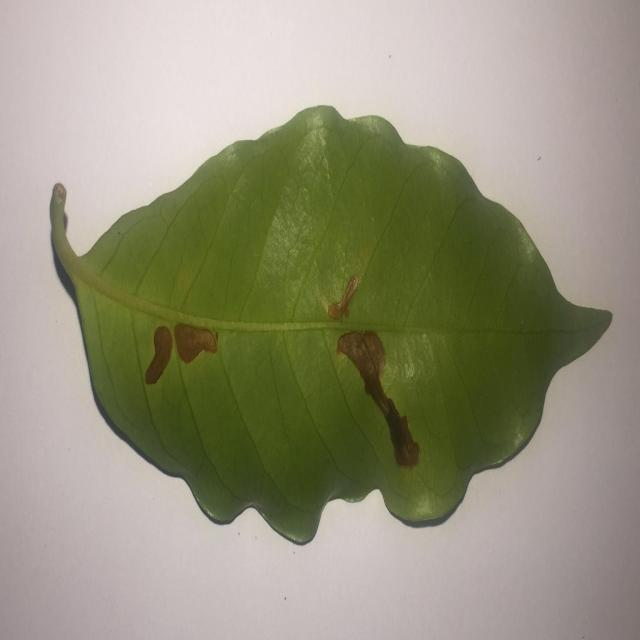Plaga-Minador: (48, 105, 613, 549)
